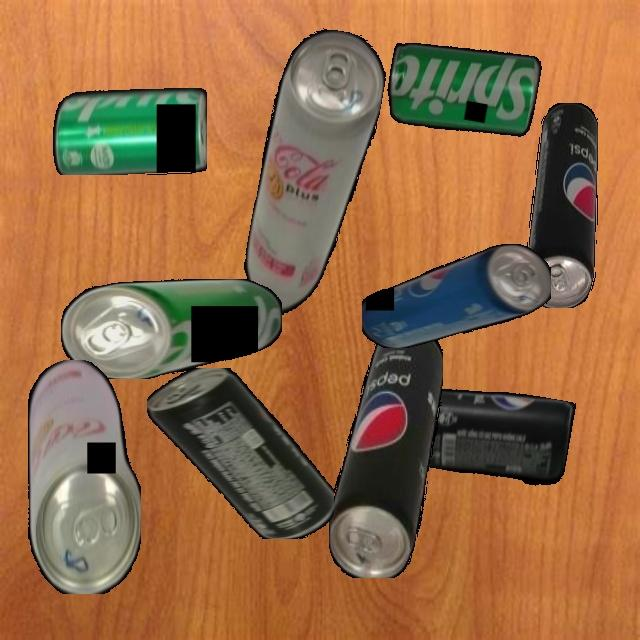debris: (235, 22, 392, 334), (146, 368, 334, 539), (328, 327, 443, 578), (27, 359, 141, 594), (61, 278, 282, 379), (361, 244, 551, 348), (382, 33, 543, 145), (416, 378, 576, 490), (525, 102, 598, 308), (52, 87, 207, 175)
